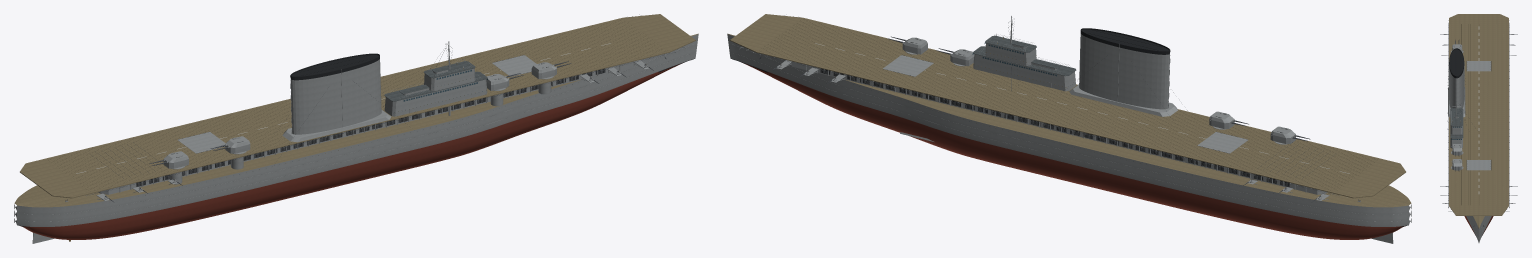
The model's file is lexington_cv.glb.
3 views of the same model, side by side, from view 1: azimuth 30°, elevation 25°; view 2: azimuth 150°, elevation 25°; view 3: azimuth 270°, elevation 25° (orthographic). The views are drawn at different scales.
Visible parts, largest first — view 1: Lexington class (carrier conversion); view 2: Lexington class (carrier conversion); view 3: Lexington class (carrier conversion).
Part boxes in pixels (left/top/right/bottom): Lexington class (carrier conversion): left=14, top=14, right=698, bottom=243; Lexington class (carrier conversion): left=727, top=14, right=1411, bottom=243; Lexington class (carrier conversion): left=1440, top=14, right=1517, bottom=242.
Bounding box in the file's own units: 271 × 47.1 × 41.52.
9 materials, 8 textured.
